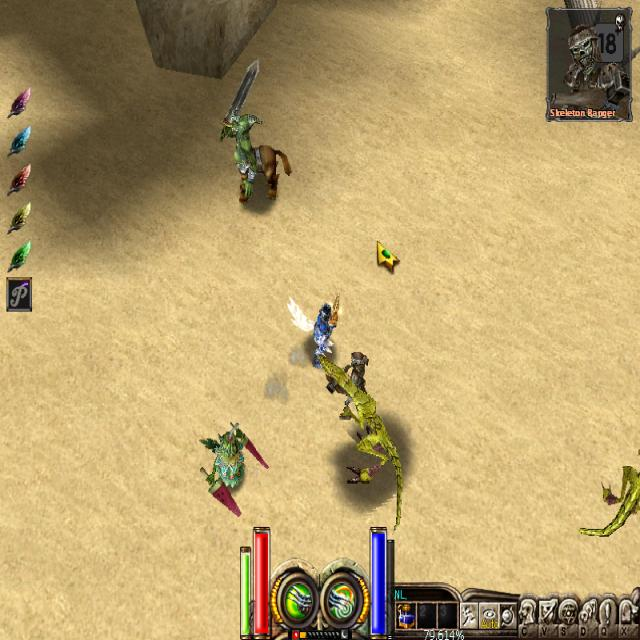monster: (229, 103, 296, 206), (342, 387, 396, 496), (201, 425, 264, 516), (336, 350, 374, 407)
